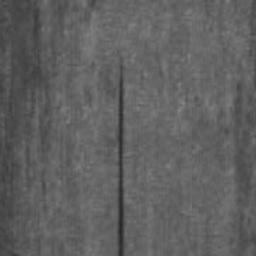Scratches: (117, 57, 123, 256)
